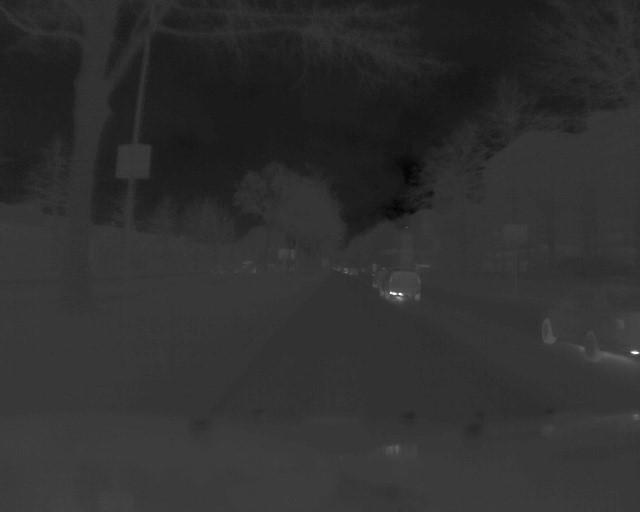car: (538, 280, 640, 364), (380, 269, 424, 305)
